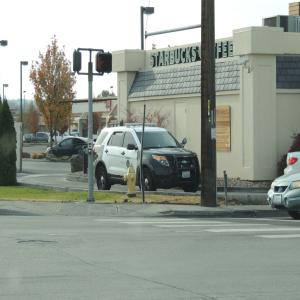Vehicle-registration-plate: (274, 195, 282, 204), (183, 171, 191, 178)
